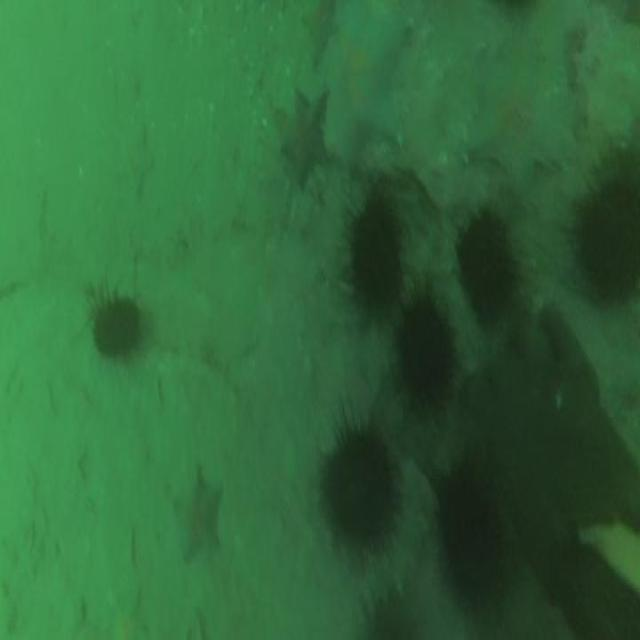echinus: (308, 394, 410, 574), (428, 436, 516, 620), (567, 120, 640, 299), (450, 196, 530, 340), (337, 177, 412, 330), (387, 270, 464, 416), (82, 275, 146, 365), (350, 578, 430, 640)
starfish: (466, 35, 572, 207), (342, 7, 412, 162), (172, 464, 228, 569), (279, 87, 332, 193), (300, 2, 338, 68)
